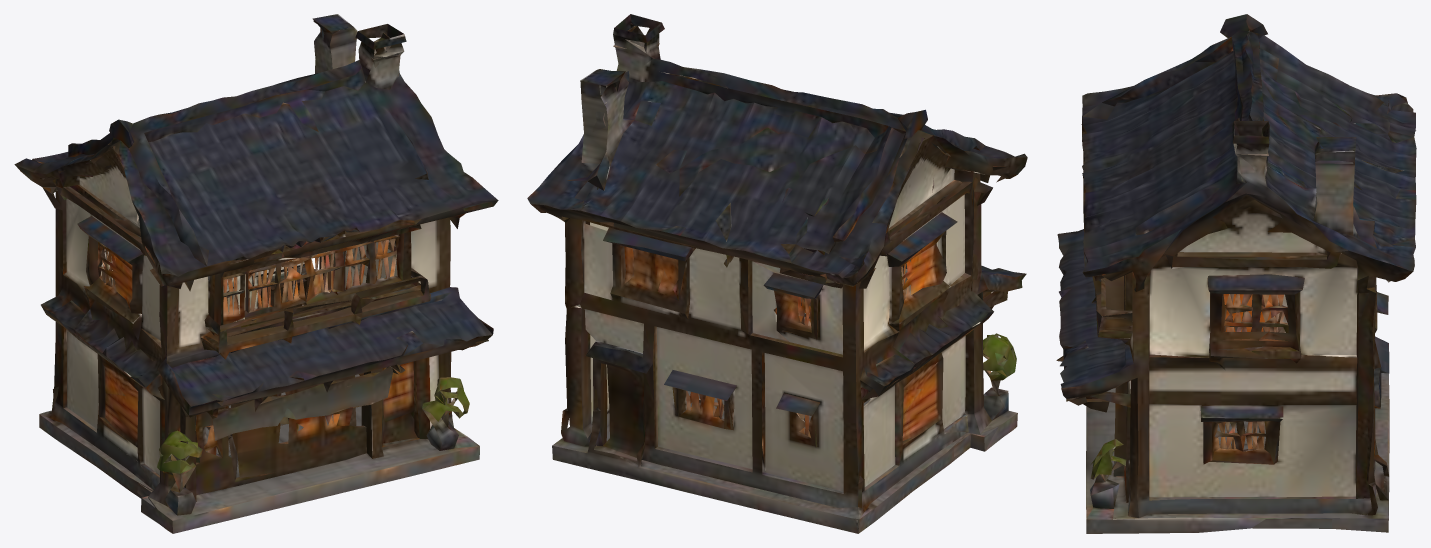
3 renders of one model, left to right at view 1: azimuth 30°, elevation 25°; view 2: azimuth 150°, elevation 25°; view 3: azimuth 270°, elevation 25°, orthographic. The views are drawn at different scales.
Parts seen in each view (by area): view 1: compact__shop_2__neural_lod; view 2: compact__shop_2__neural_lod; view 3: compact__shop_2__neural_lod.
Part boxes in pixels (x1,y1,x2,y2): compact__shop_2__neural_lod: (14,14,498,533); compact__shop_2__neural_lod: (527,14,1027,533); compact__shop_2__neural_lod: (1056,14,1416,533).
Bounding box in the file's own units: 0.9302 × 0.9985 × 0.8218.
Materials: 1 (1 with a texture image).
